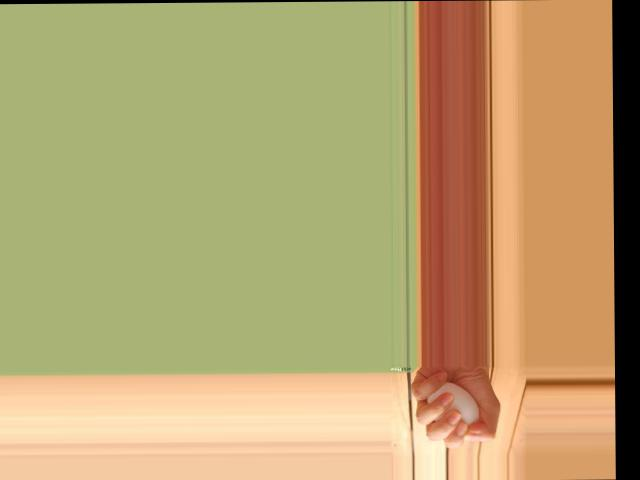egg: (426, 381, 479, 429)
